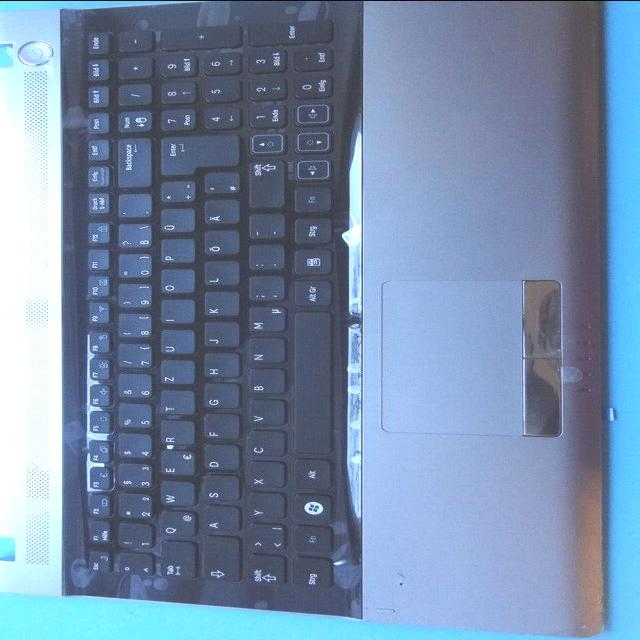0: (114, 255, 150, 281)
1: (115, 525, 152, 551)
2: (114, 494, 150, 521)
3: (113, 465, 151, 491)
4: (113, 435, 150, 461)
5: (114, 405, 150, 431)
6: (114, 374, 150, 400)
7: (114, 345, 150, 370)
8: (114, 315, 151, 341)
9: (113, 285, 150, 311)
a: (200, 506, 238, 534)
accent: (114, 194, 150, 220)
ae: (200, 201, 238, 227)
alt-left: (288, 460, 328, 492)
altgr-right: (289, 281, 328, 309)
b: (244, 369, 283, 396)
c: (244, 431, 284, 459)
caret: (114, 555, 151, 578)
comma: (244, 277, 283, 303)
d: (200, 446, 238, 472)
del: (113, 140, 149, 190)
e: (157, 452, 194, 478)
enter: (154, 137, 238, 177)
f: (201, 415, 238, 441)
g: (200, 385, 238, 411)
h: (200, 354, 238, 380)
hash: (200, 174, 237, 196)
i: (157, 300, 193, 325)
j: (200, 323, 238, 349)
k: (200, 292, 238, 318)
keyboard: (53, 0, 356, 603)
l: (200, 262, 238, 287)
less: (243, 524, 285, 554)
m: (245, 307, 284, 334)
minus: (245, 215, 283, 241)
n: (245, 339, 283, 365)
o: (157, 270, 193, 296)
oe: (200, 231, 238, 257)
p: (157, 240, 193, 265)
plus: (156, 183, 193, 205)
point: (244, 245, 283, 272)
q: (156, 512, 195, 540)
r: (157, 421, 193, 447)
s: (198, 476, 238, 503)
shift-left: (243, 556, 283, 589)
shift-lock: (198, 537, 239, 584)
shift-right: (244, 161, 282, 209)
space: (289, 312, 330, 456)
ss: (114, 225, 150, 251)
strg-left: (288, 559, 330, 592)
strg-right: (290, 218, 329, 245)
t: (156, 391, 193, 416)
tab: (156, 543, 193, 583)
u: (157, 331, 193, 356)
ue: (156, 209, 194, 235)
v: (245, 400, 283, 427)
w: (155, 482, 193, 508)
x: (243, 462, 283, 490)
y: (245, 493, 283, 521)
z: (156, 361, 193, 386)
